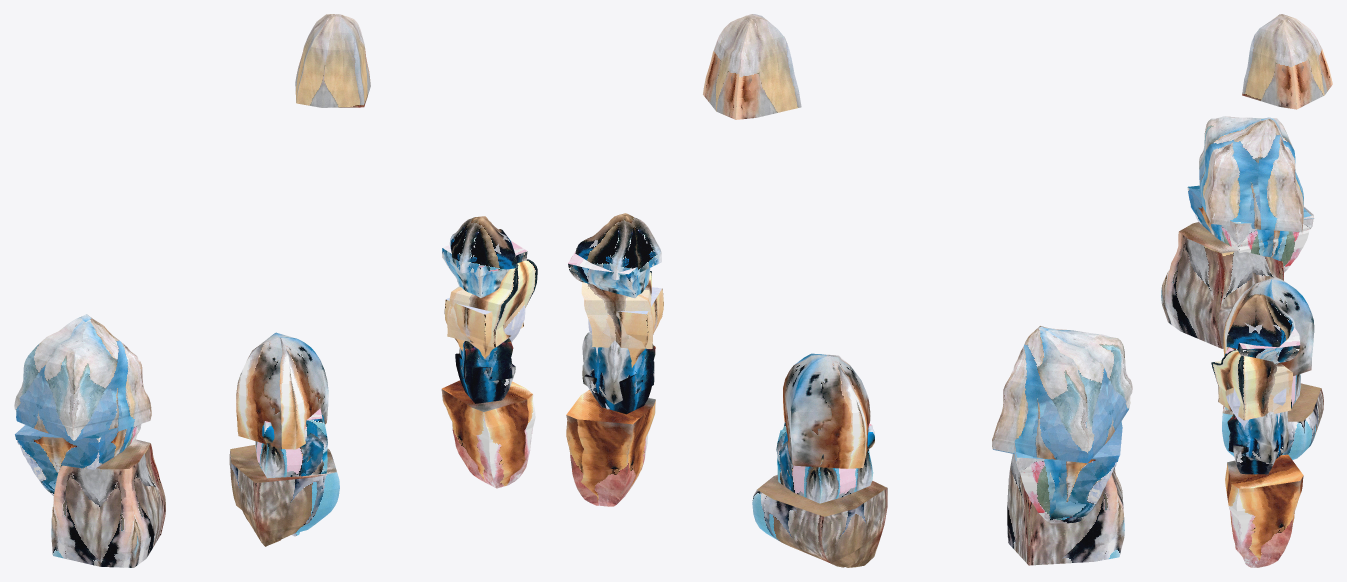
3 renders of one model, left to right at view 1: azimuth 30°, elevation 25°; view 2: azimuth 150°, elevation 25°; view 3: azimuth 270°, elevation 25°, orthographic. The views are drawn at different scales.
Parts seen in each view (by area): view 1: SPLICE_2 (×6), SPLICE_1 (×6), SPLICE_3 (×2); view 2: SPLICE_2 (×6), SPLICE_1 (×6), SPLICE_3 (×2); view 3: SPLICE_2 (×6), SPLICE_1 (×6), SPLICE_3 (×2).
Part boxes in pixels (x1=…): SPLICE_2 (×6): x1=14, y1=259, x2=537, y2=567; SPLICE_1 (×6): x1=15, y1=14, x2=535, y2=495; SPLICE_3 (×2): x1=229, y1=240, x2=527, y2=546; SPLICE_2 (×6): x1=581, y1=271, x2=1132, y2=565; SPLICE_1 (×6): x1=566, y1=14, x2=1122, y2=523; SPLICE_3 (×2): x1=568, y1=251, x2=887, y2=567; SPLICE_2 (×6): x1=1161, y1=116, x2=1314, y2=474; SPLICE_1 (×6): x1=1187, y1=14, x2=1332, y2=567; SPLICE_3 (×2): x1=1222, y1=327, x2=1323, y2=459.
Size of the model in its own units: 9.12 by 8.54 by 2.77.
14 materials, 14 textured.
